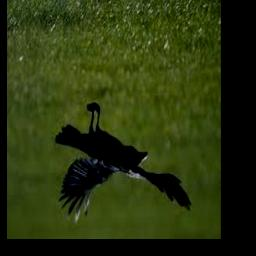Crow: (54, 103, 191, 228)
